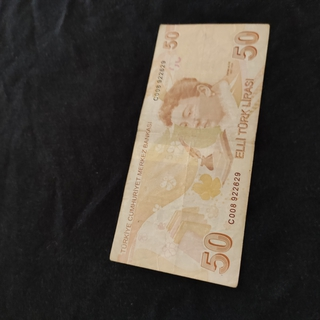50TLBack: (108, 22, 271, 287)
